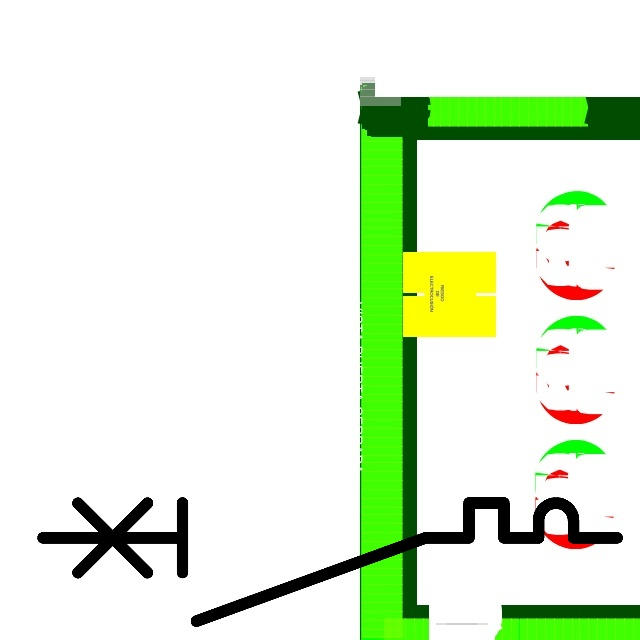interruptor_termomagnetico: (28, 488, 632, 636)
